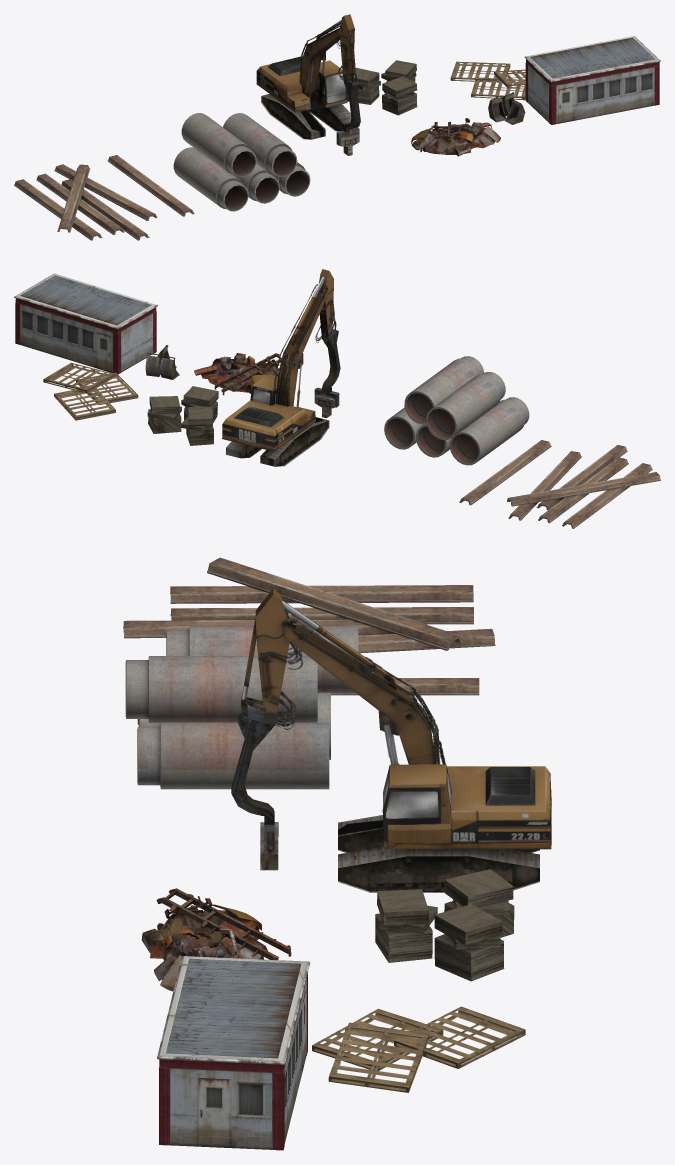
Rendered from low_poly_construction_assets.glb.
3 renders of one model, top to bottom at view 1: azimuth 30°, elevation 25°; view 2: azimuth 150°, elevation 25°; view 3: azimuth 270°, elevation 25°, orthographic. The views are drawn at different scales.
Parts seen in each view (by area): view 1: Portable_Cabin.001, Construction.006, Construction.004, Construction.012, Construction.011, Construction.013, Construction.001, Construction.014, Construction.002, Construction.005, Construction.010, Construction.015 (+4 smaller); view 2: Portable_Cabin.001, Construction.006, Construction.004, Construction.012, Construction.011, Construction.013, Construction.014, Construction.001, Construction.005, Construction.016, Construction.015, Construction.007 (+3 smaller); view 3: Construction.006, Portable_Cabin.001, Construction.004, Construction.007, Construction.013, Construction.014, Construction.001, Construction.016, Construction.012, Construction.002, Construction.015, Construction.003 (+1 smaller).
Boxes of the visible parts, x1,y1,x2,y2 form: Portable_Cabin.001: (524,36,660,124); Construction.006: (256,14,360,155); Construction.004: (14,164,157,240); Construction.012: (181,113,256,177); Construction.011: (173,147,248,211); Construction.013: (223,113,297,177); Construction.001: (411,118,500,156); Construction.014: (450,61,525,87); Construction.002: (382,76,417,115); Construction.005: (107,155,194,216); Construction.010: (233,164,279,203); Construction.015: (347,67,380,104); Portable_Cabin.001: (14,273,157,374); Construction.006: (222,269,340,466); Construction.004: (507,445,660,528); Construction.012: (426,372,505,440); Construction.011: (449,397,529,465); Construction.013: (404,356,484,424); Construction.014: (43,362,115,420); Construction.001: (194,353,281,395); Construction.005: (459,440,551,505); Construction.016: (147,396,181,433); Construction.015: (181,406,214,445); Construction.007: (384,407,423,449); Construction.006: (231,588,551,892); Portable_Cabin.001: (157,956,310,1150); Construction.004: (123,557,495,653); Construction.007: (137,722,329,789); Construction.013: (125,656,317,722); Construction.014: (328,1006,525,1092); Construction.001: (141,888,291,991); Construction.016: (434,904,504,981); Construction.012: (166,626,358,693); Construction.002: (375,889,437,962); Construction.015: (444,869,514,937); Construction.003: (312,1008,443,1070).
Size of the model in its own units: 41.33 by 9.2 by 12.93.
Materials: 2 (2 with a texture image).
